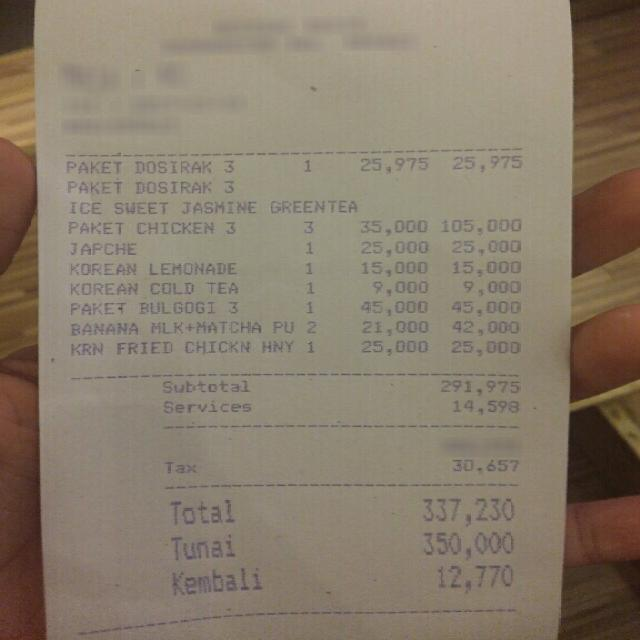kertas: (36, 1, 572, 640)
